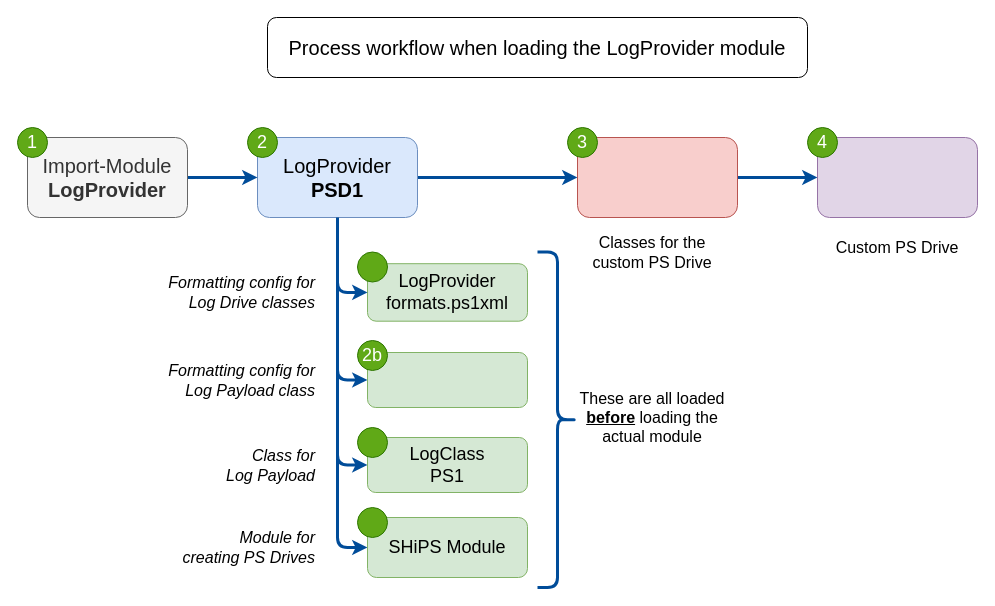
The diagram is 995 pixels wide and 606 high, and some of its shapes have lost their labels. Each missing label, with the box of its shape:
2a: (356, 251, 388, 282)
2c: (356, 426, 388, 458)
2d: (356, 506, 388, 538)
LogClass formats.ps1xml: (366, 352, 528, 408)
LogProvider PSM1: (576, 136, 738, 218)
New-PSDrive LogDrive: (816, 136, 978, 218)
